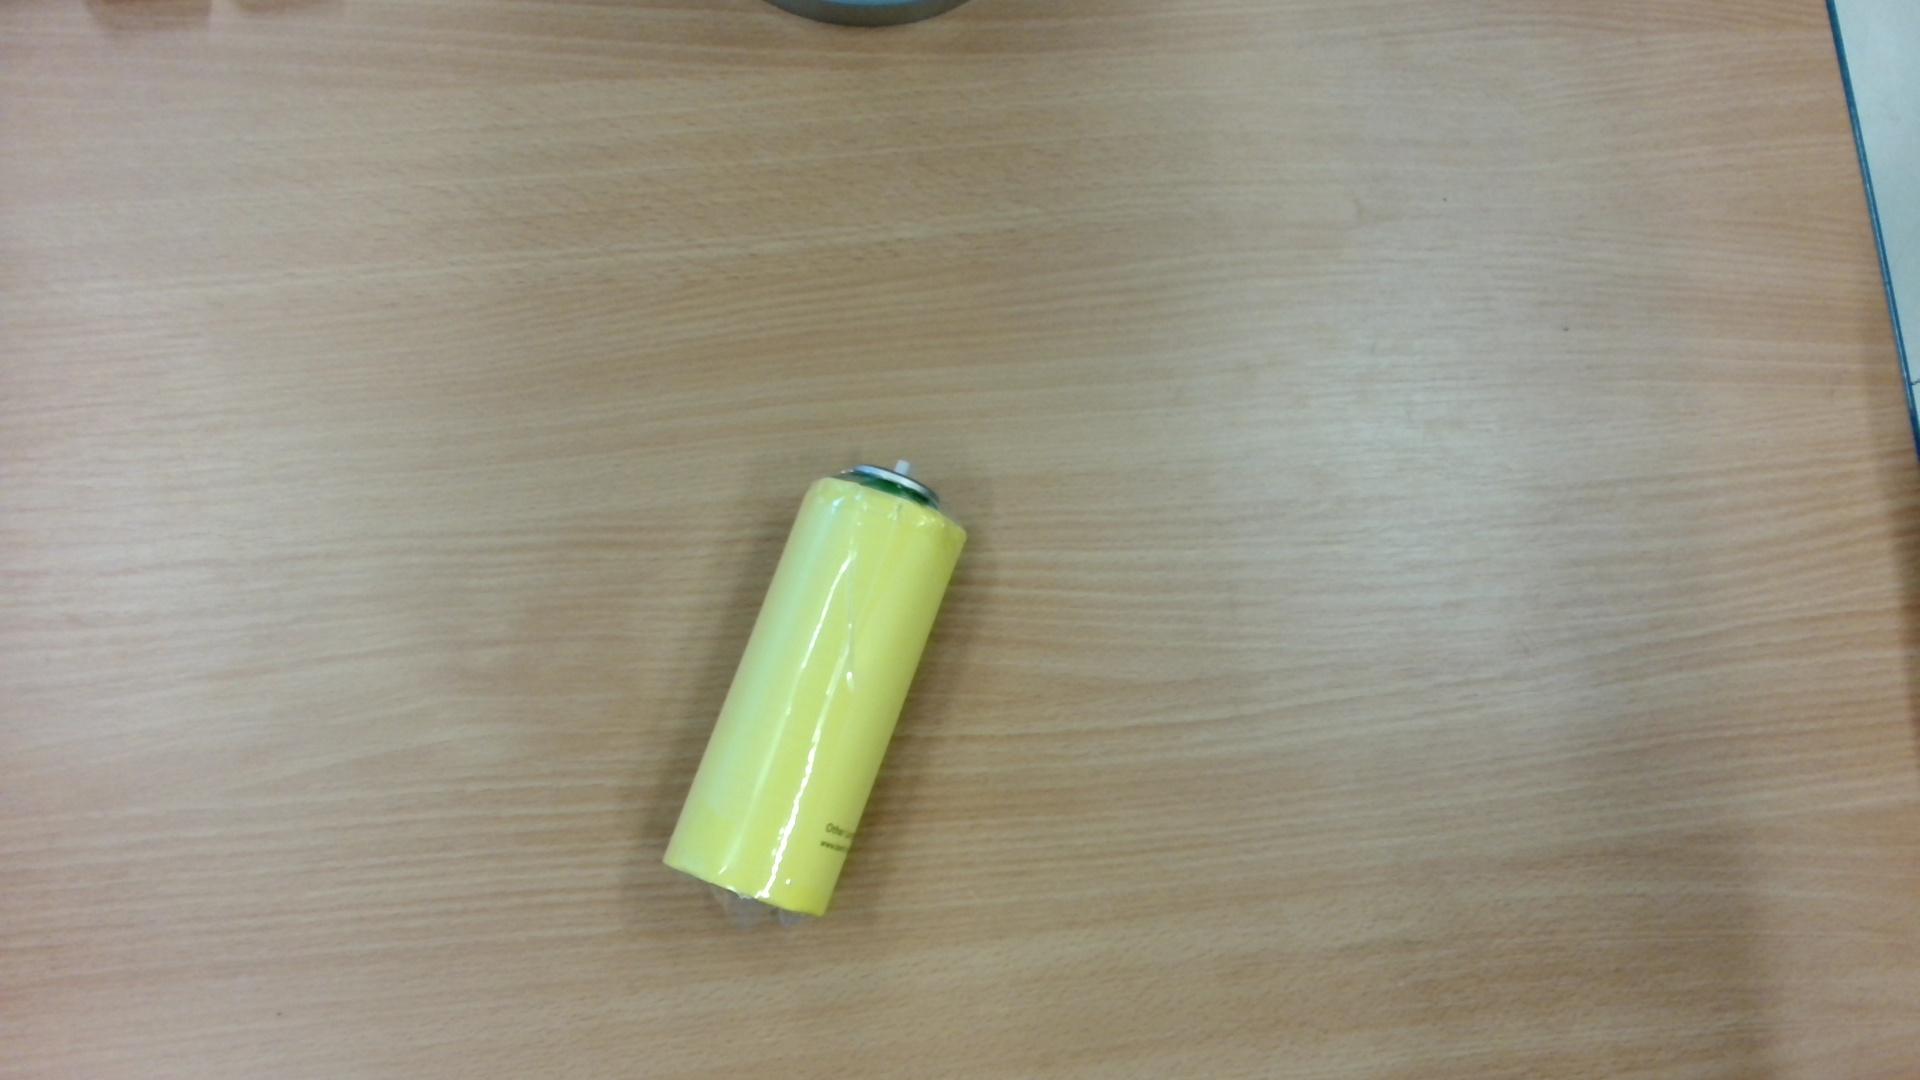Cylinder: (636, 438, 996, 940)
